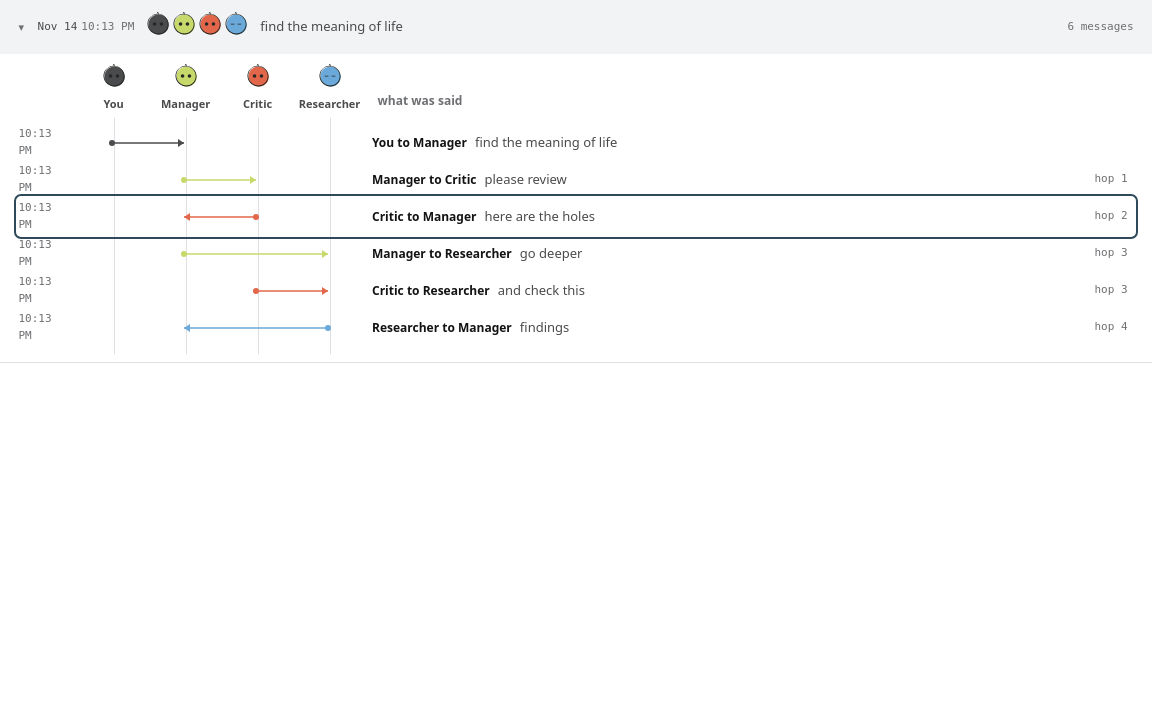
Test: ActivityFlow › is reachable from the keyboard
Click the button labelled "10:13 PM Critic to Manager here are the holes hop 2" at (576, 216), box [18,198,1134,235]
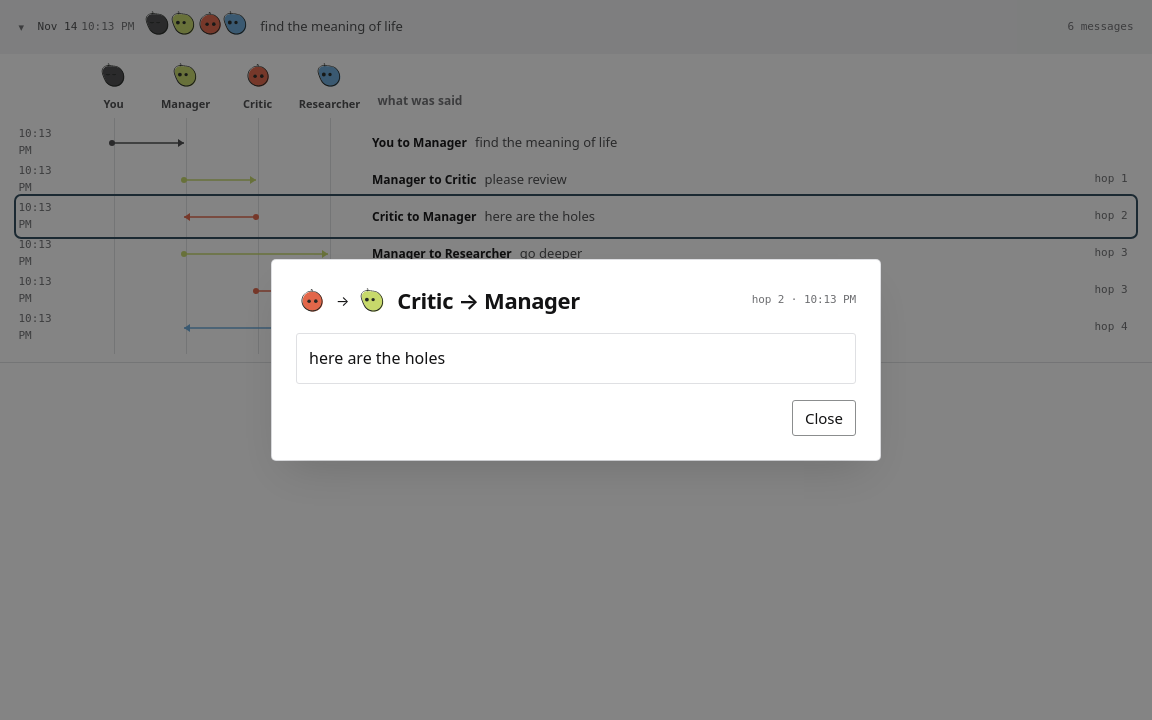
Now the text "here are the holes" is shown, box [309,347,445,369]
